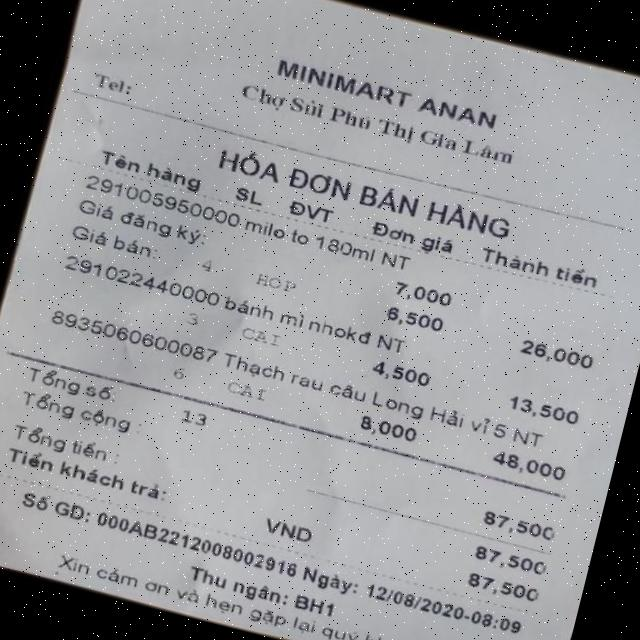Date: (362, 580, 466, 626)
Store_Name: (244, 23, 519, 148)
amount_number: (472, 500, 566, 552)
label_total: (14, 382, 145, 442)
